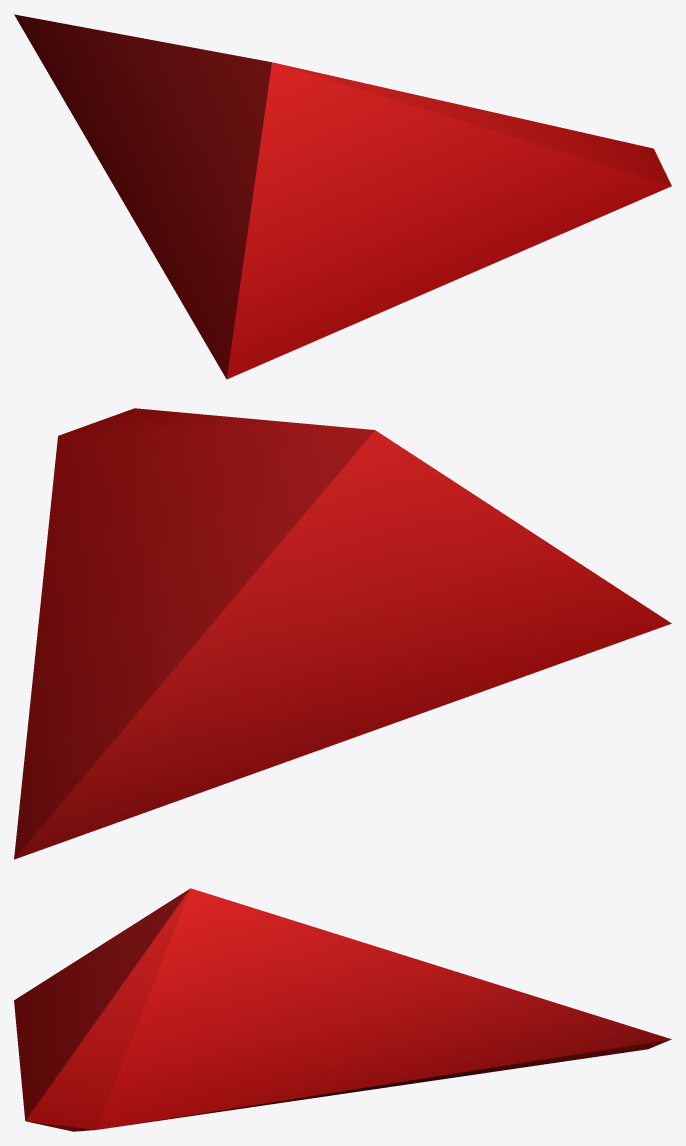
The model's file is c_roof_triangle_aa.fbx.
3 renders of one model, top to bottom at view 1: azimuth 30°, elevation 25°; view 2: azimuth 150°, elevation 25°; view 3: azimuth 270°, elevation 25°, orthographic. The views are drawn at different scales.
Parts seen in each view (by area): view 1: c_roof_triangle_aa; view 2: c_roof_triangle_aa; view 3: c_roof_triangle_aa.
Boxes of the visible parts, box(x1,y1,x2,y2) form: c_roof_triangle_aa: box(14, 14, 671, 379); c_roof_triangle_aa: box(14, 408, 671, 859); c_roof_triangle_aa: box(14, 888, 671, 1131).
Size of the model in its own units: 5.88 by 2.45 by 8.3.
